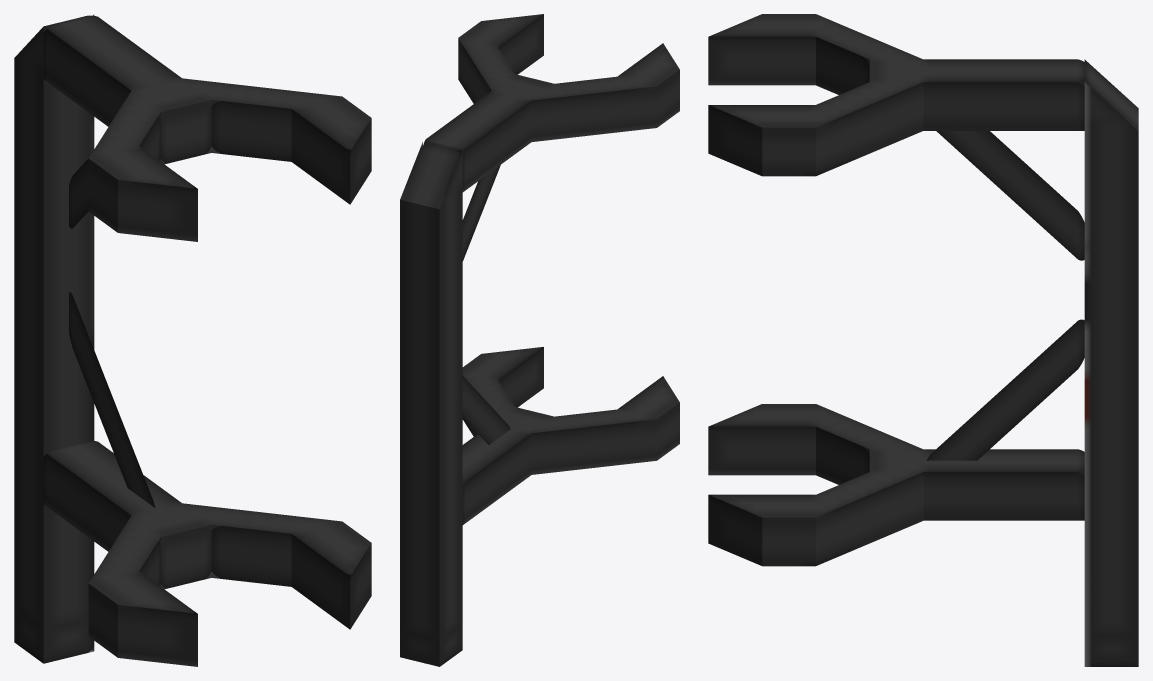
File: micro_erector.obj
3 views of the same model, side by side, from view 1: azimuth 30°, elevation 25°; view 2: azimuth 150°, elevation 25°; view 3: azimuth 270°, elevation 25° (orthographic). The views are drawn at different scales.
Parts seen in each view (by area): view 1: micro_erector; view 2: micro_erector; view 3: micro_erector.
Boxes of the visible parts, left/top/right/bottom form: micro_erector: left=14, top=14, right=371, bottom=666; micro_erector: left=400, top=14, right=679, bottom=666; micro_erector: left=708, top=14, right=1138, bottom=666.
Size of the model in its own units: 1.25 by 3 by 2.
